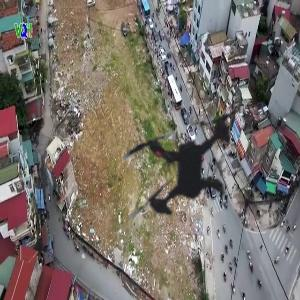drone: (76, 53, 297, 274)
